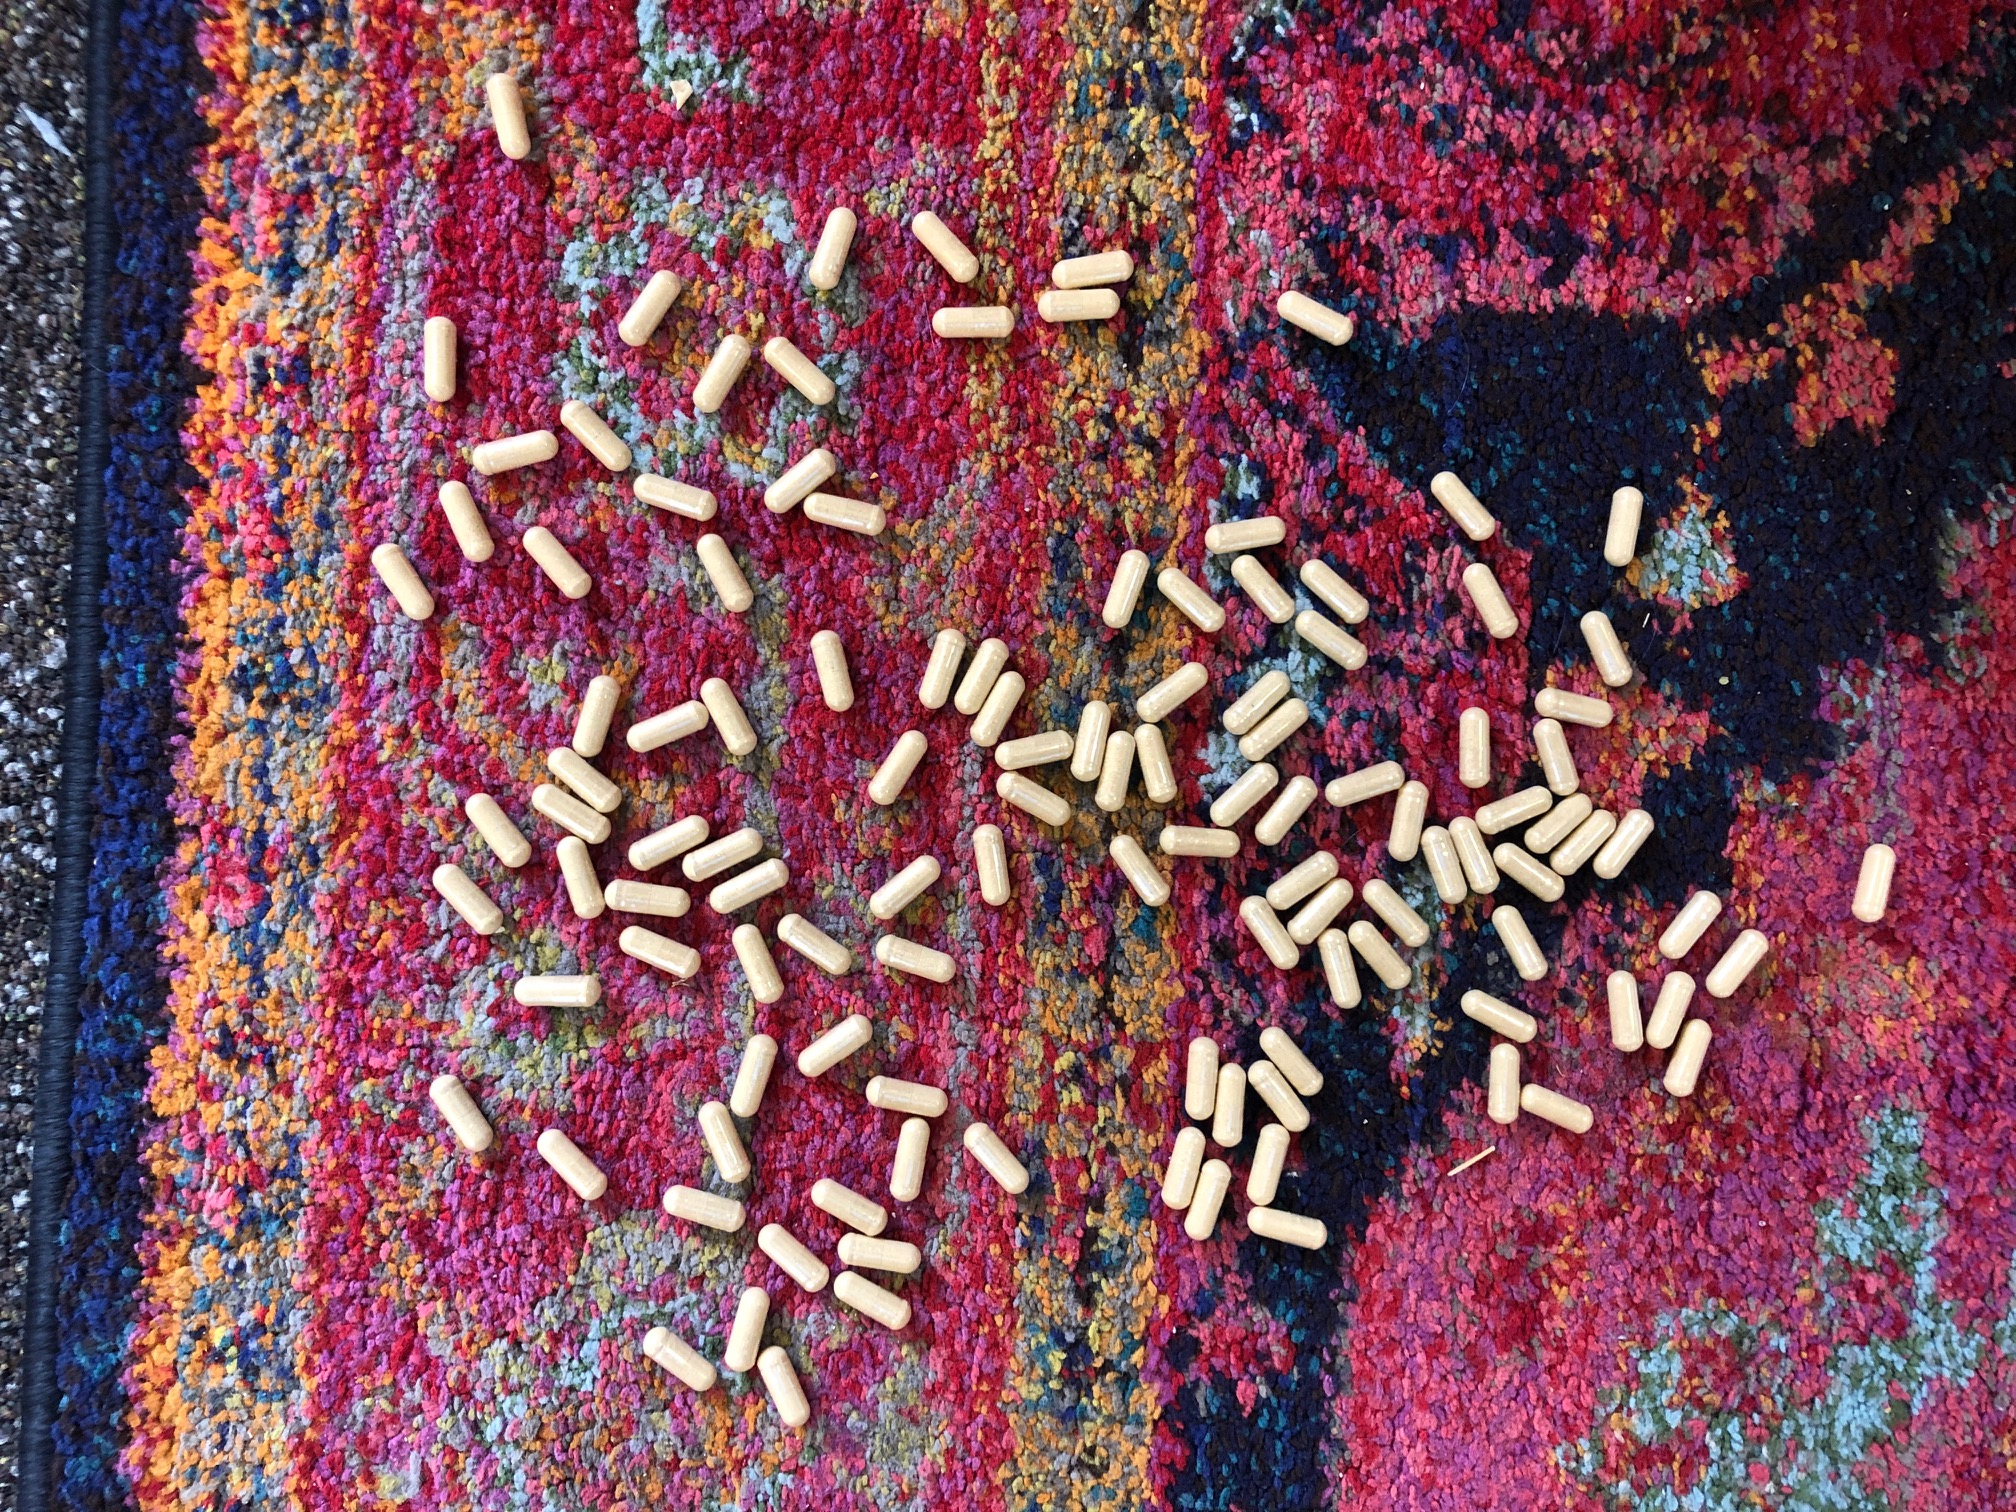capsule: (424, 1069, 498, 1156), (543, 743, 629, 816), (557, 395, 637, 473), (429, 859, 505, 940), (908, 206, 983, 289), (1425, 464, 1499, 546), (1587, 805, 1662, 885), (760, 335, 841, 408), (521, 526, 595, 604), (754, 1221, 832, 1296), (1295, 554, 1375, 627), (537, 1124, 610, 1204), (464, 788, 532, 872), (529, 780, 614, 847), (1294, 604, 1372, 677), (794, 1010, 876, 1078), (806, 1171, 891, 1237), (694, 534, 759, 619), (1257, 1021, 1329, 1099), (1252, 769, 1321, 850), (548, 832, 610, 921), (638, 1326, 721, 1393), (371, 540, 437, 624), (1546, 807, 1621, 880), (617, 268, 681, 354), (698, 677, 762, 762), (867, 851, 945, 921), (1245, 1058, 1314, 1136), (1362, 872, 1430, 951), (1237, 696, 1318, 762), (776, 910, 857, 977), (435, 476, 495, 565), (754, 1340, 814, 1429), (762, 445, 835, 518), (960, 1121, 1030, 1198), (1491, 839, 1568, 907), (829, 1267, 914, 1329), (1133, 658, 1213, 724), (691, 334, 754, 416), (621, 699, 710, 758), (1156, 565, 1229, 637), (1283, 874, 1354, 947), (1521, 788, 1595, 858), (1651, 885, 1721, 959), (1235, 894, 1302, 972), (695, 1099, 754, 1186), (625, 813, 713, 872), (722, 1029, 778, 1121), (1229, 551, 1295, 627), (1206, 762, 1283, 829), (1457, 561, 1521, 640), (868, 727, 930, 808), (1106, 829, 1168, 910), (1703, 926, 1770, 1001), (1346, 918, 1413, 993), (1445, 812, 1503, 896), (1487, 904, 1549, 983), (952, 634, 1010, 719), (729, 923, 786, 1009), (1641, 966, 1699, 1051), (603, 870, 694, 924), (613, 924, 703, 978), (1221, 669, 1292, 737), (1575, 607, 1633, 689), (1456, 985, 1538, 1043), (1659, 1016, 1718, 1099), (629, 472, 721, 524), (681, 826, 765, 883), (1260, 851, 1340, 912), (803, 206, 859, 292), (468, 427, 562, 478), (967, 669, 1024, 751), (710, 854, 787, 915), (721, 1283, 771, 1375), (1275, 287, 1354, 346), (483, 71, 532, 165), (871, 932, 959, 985), (1525, 718, 1584, 796), (995, 769, 1073, 827), (1156, 1126, 1210, 1210), (1184, 1155, 1233, 1247), (798, 491, 887, 542), (1324, 754, 1406, 808), (1518, 1080, 1595, 1137), (660, 1182, 748, 1232), (864, 1070, 952, 1120), (570, 672, 621, 758), (1476, 783, 1552, 840), (1240, 1204, 1330, 1252), (1314, 924, 1364, 1012), (1529, 683, 1618, 731), (1102, 546, 1151, 632), (1129, 719, 1178, 805), (513, 967, 603, 1013), (1246, 1120, 1292, 1210), (806, 631, 856, 715), (833, 1229, 925, 1274), (918, 627, 967, 710), (1603, 967, 1648, 1058), (1599, 483, 1645, 569), (1202, 515, 1287, 561), (971, 821, 1018, 907), (1421, 824, 1468, 907), (887, 1117, 930, 1205), (1068, 699, 1113, 783), (419, 313, 460, 403), (1849, 843, 1895, 924), (1157, 820, 1243, 862), (991, 727, 1073, 772), (1095, 729, 1137, 816), (1387, 777, 1429, 862), (1181, 1036, 1222, 1121), (1454, 705, 1495, 789), (930, 303, 1018, 343), (1051, 248, 1138, 287), (1487, 1037, 1525, 1128), (1033, 287, 1121, 326), (1210, 1058, 1246, 1147)
